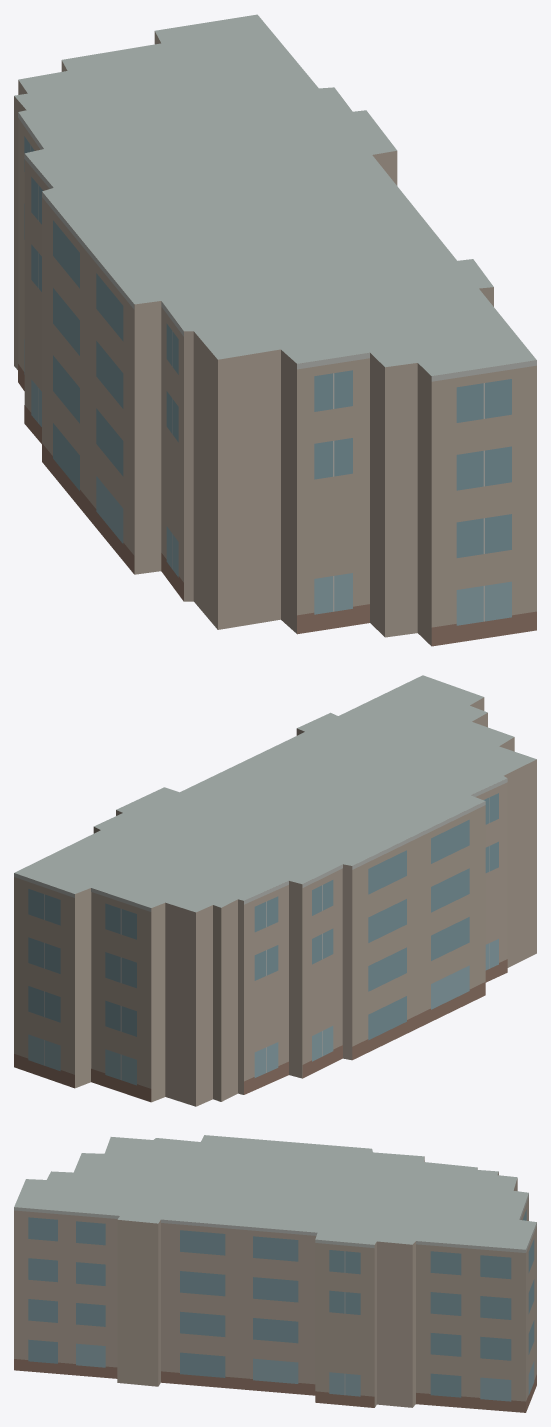
The model's file is survey-upis-32998079.glb.
3 views of the same model, one above another, from view 1: azimuth 30°, elevation 25°; view 2: azimuth 150°, elevation 25°; view 3: azimuth 270°, elevation 25° (orthographic). The views are drawn at different scales.
Visible parts, largest first — view 1: survey-upis-32998079.tmp; view 2: survey-upis-32998079.tmp; view 3: survey-upis-32998079.tmp.
Part boxes in pixels (x1,y1,x2,y2): survey-upis-32998079.tmp: [14, 14, 536, 646]; survey-upis-32998079.tmp: [14, 675, 536, 1106]; survey-upis-32998079.tmp: [14, 1135, 536, 1412].
Size of the model in its own units: 17.94 by 11.89 by 34.54.
